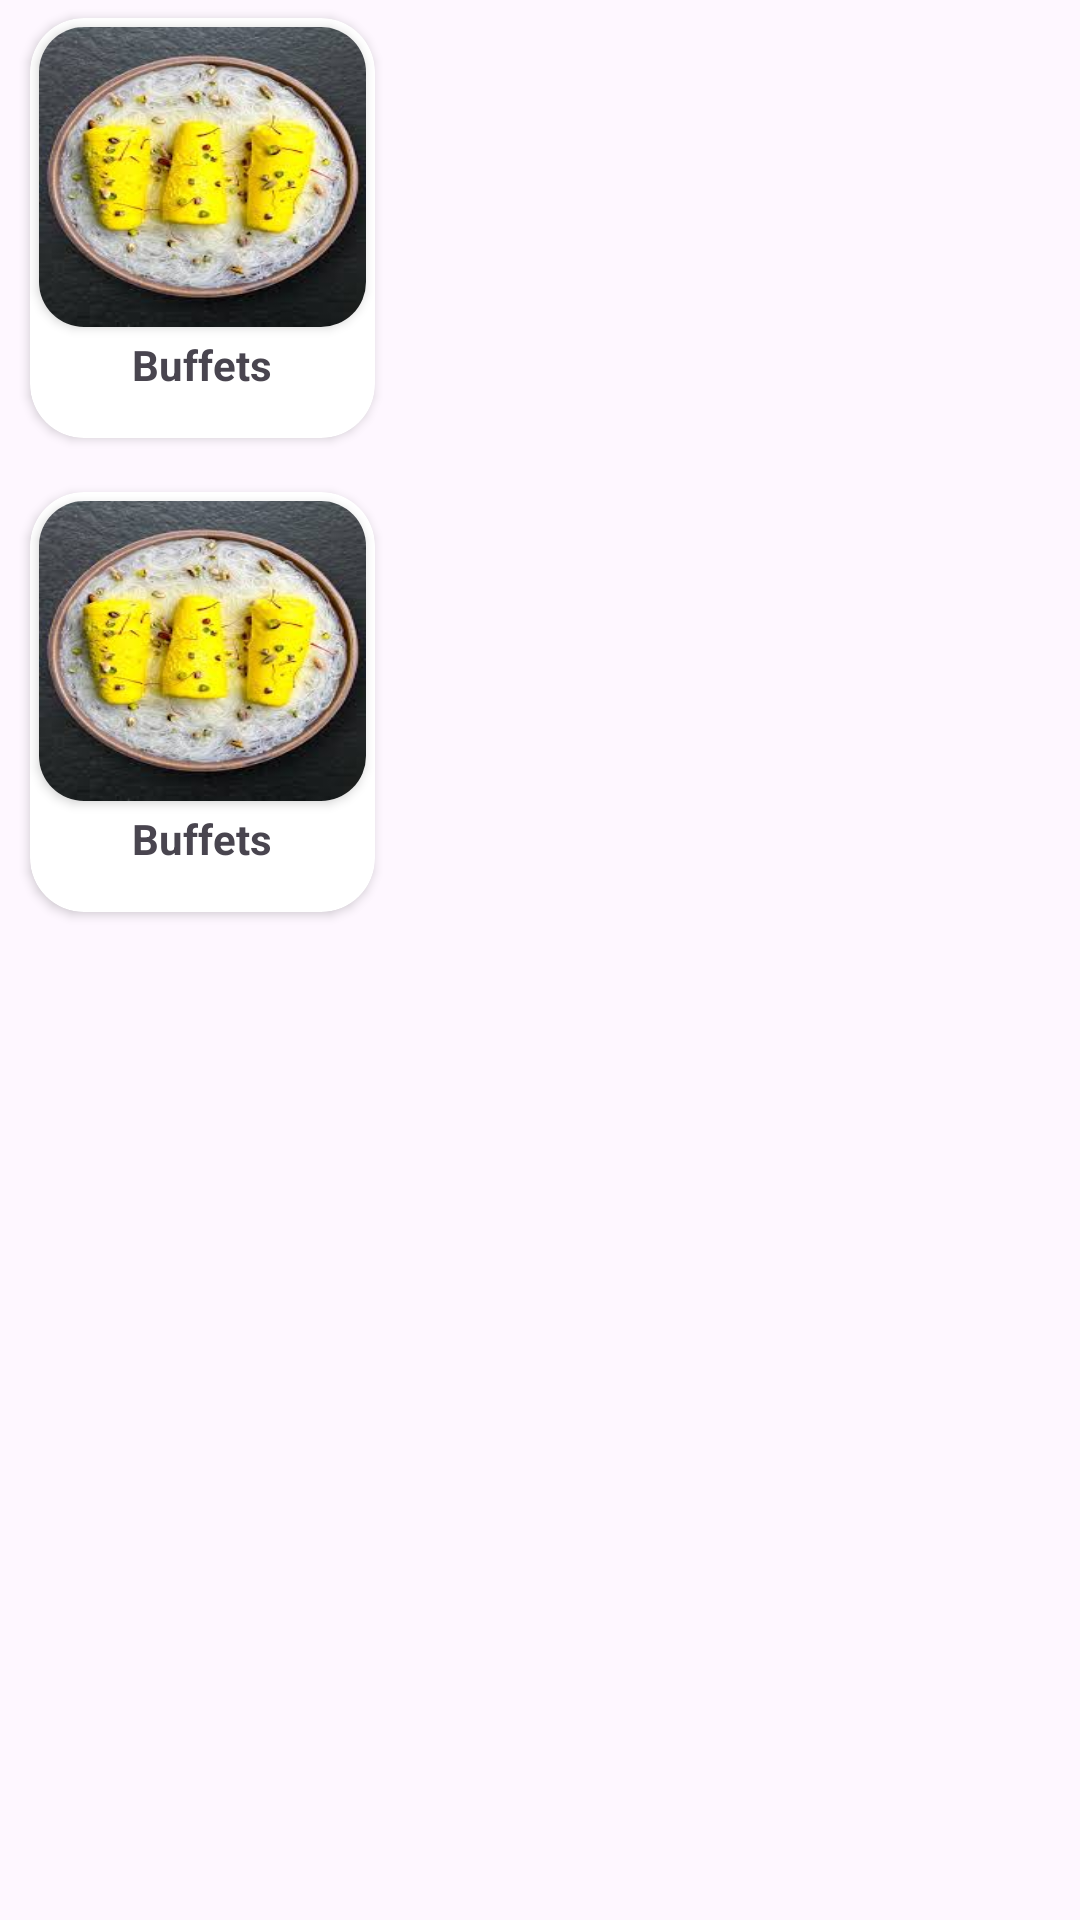

Named icons in this screenshot (1080*1920) and their centers, (x,y):
zafar kulfi: (202,177), (202,651)
